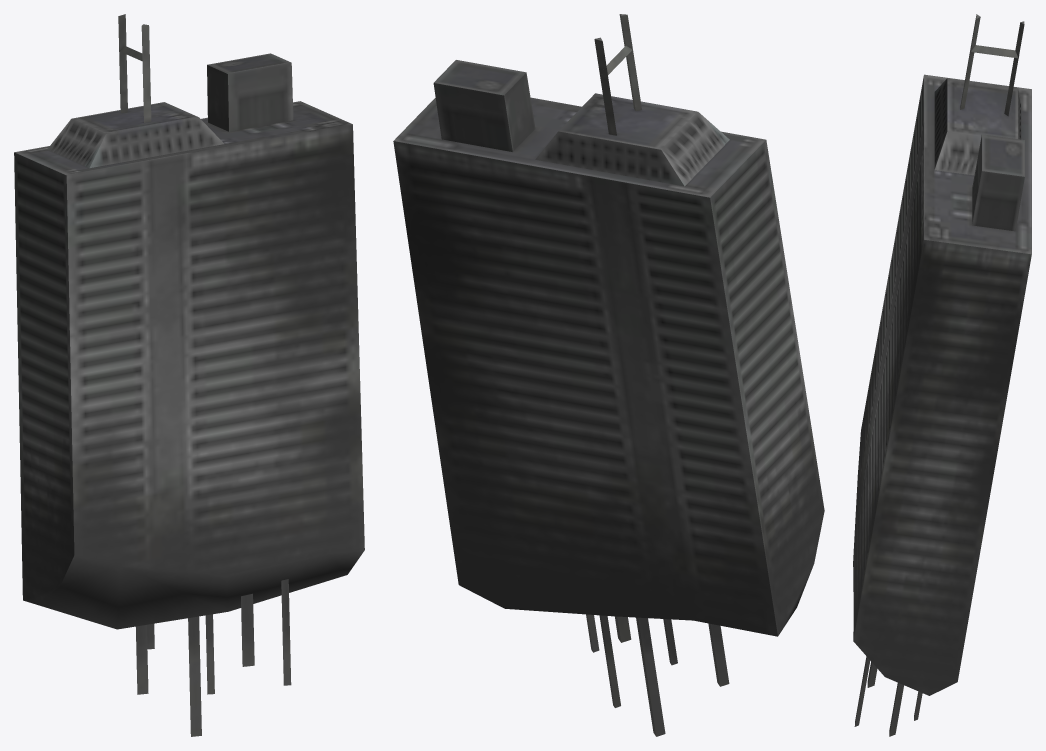
Rendered from skyBuildingAAC_pos_grp (23).fbx.
3 views of the same model, side by side, from view 1: azimuth 30°, elevation 25°; view 2: azimuth 150°, elevation 25°; view 3: azimuth 270°, elevation 25° (orthographic). The views are drawn at different scales.
Visible parts, largest first — view 1: skyBuildingAAC_geo; view 2: skyBuildingAAC_geo; view 3: skyBuildingAAC_geo.
Boxes of the visible parts, left/top/right/bottom form: skyBuildingAAC_geo: left=14, top=14, right=364, bottom=736; skyBuildingAAC_geo: left=393, top=14, right=824, bottom=736; skyBuildingAAC_geo: left=853, top=14, right=1031, bottom=736.
Bounding box in the file's own units: 5.82 × 12.14 × 2.76.
